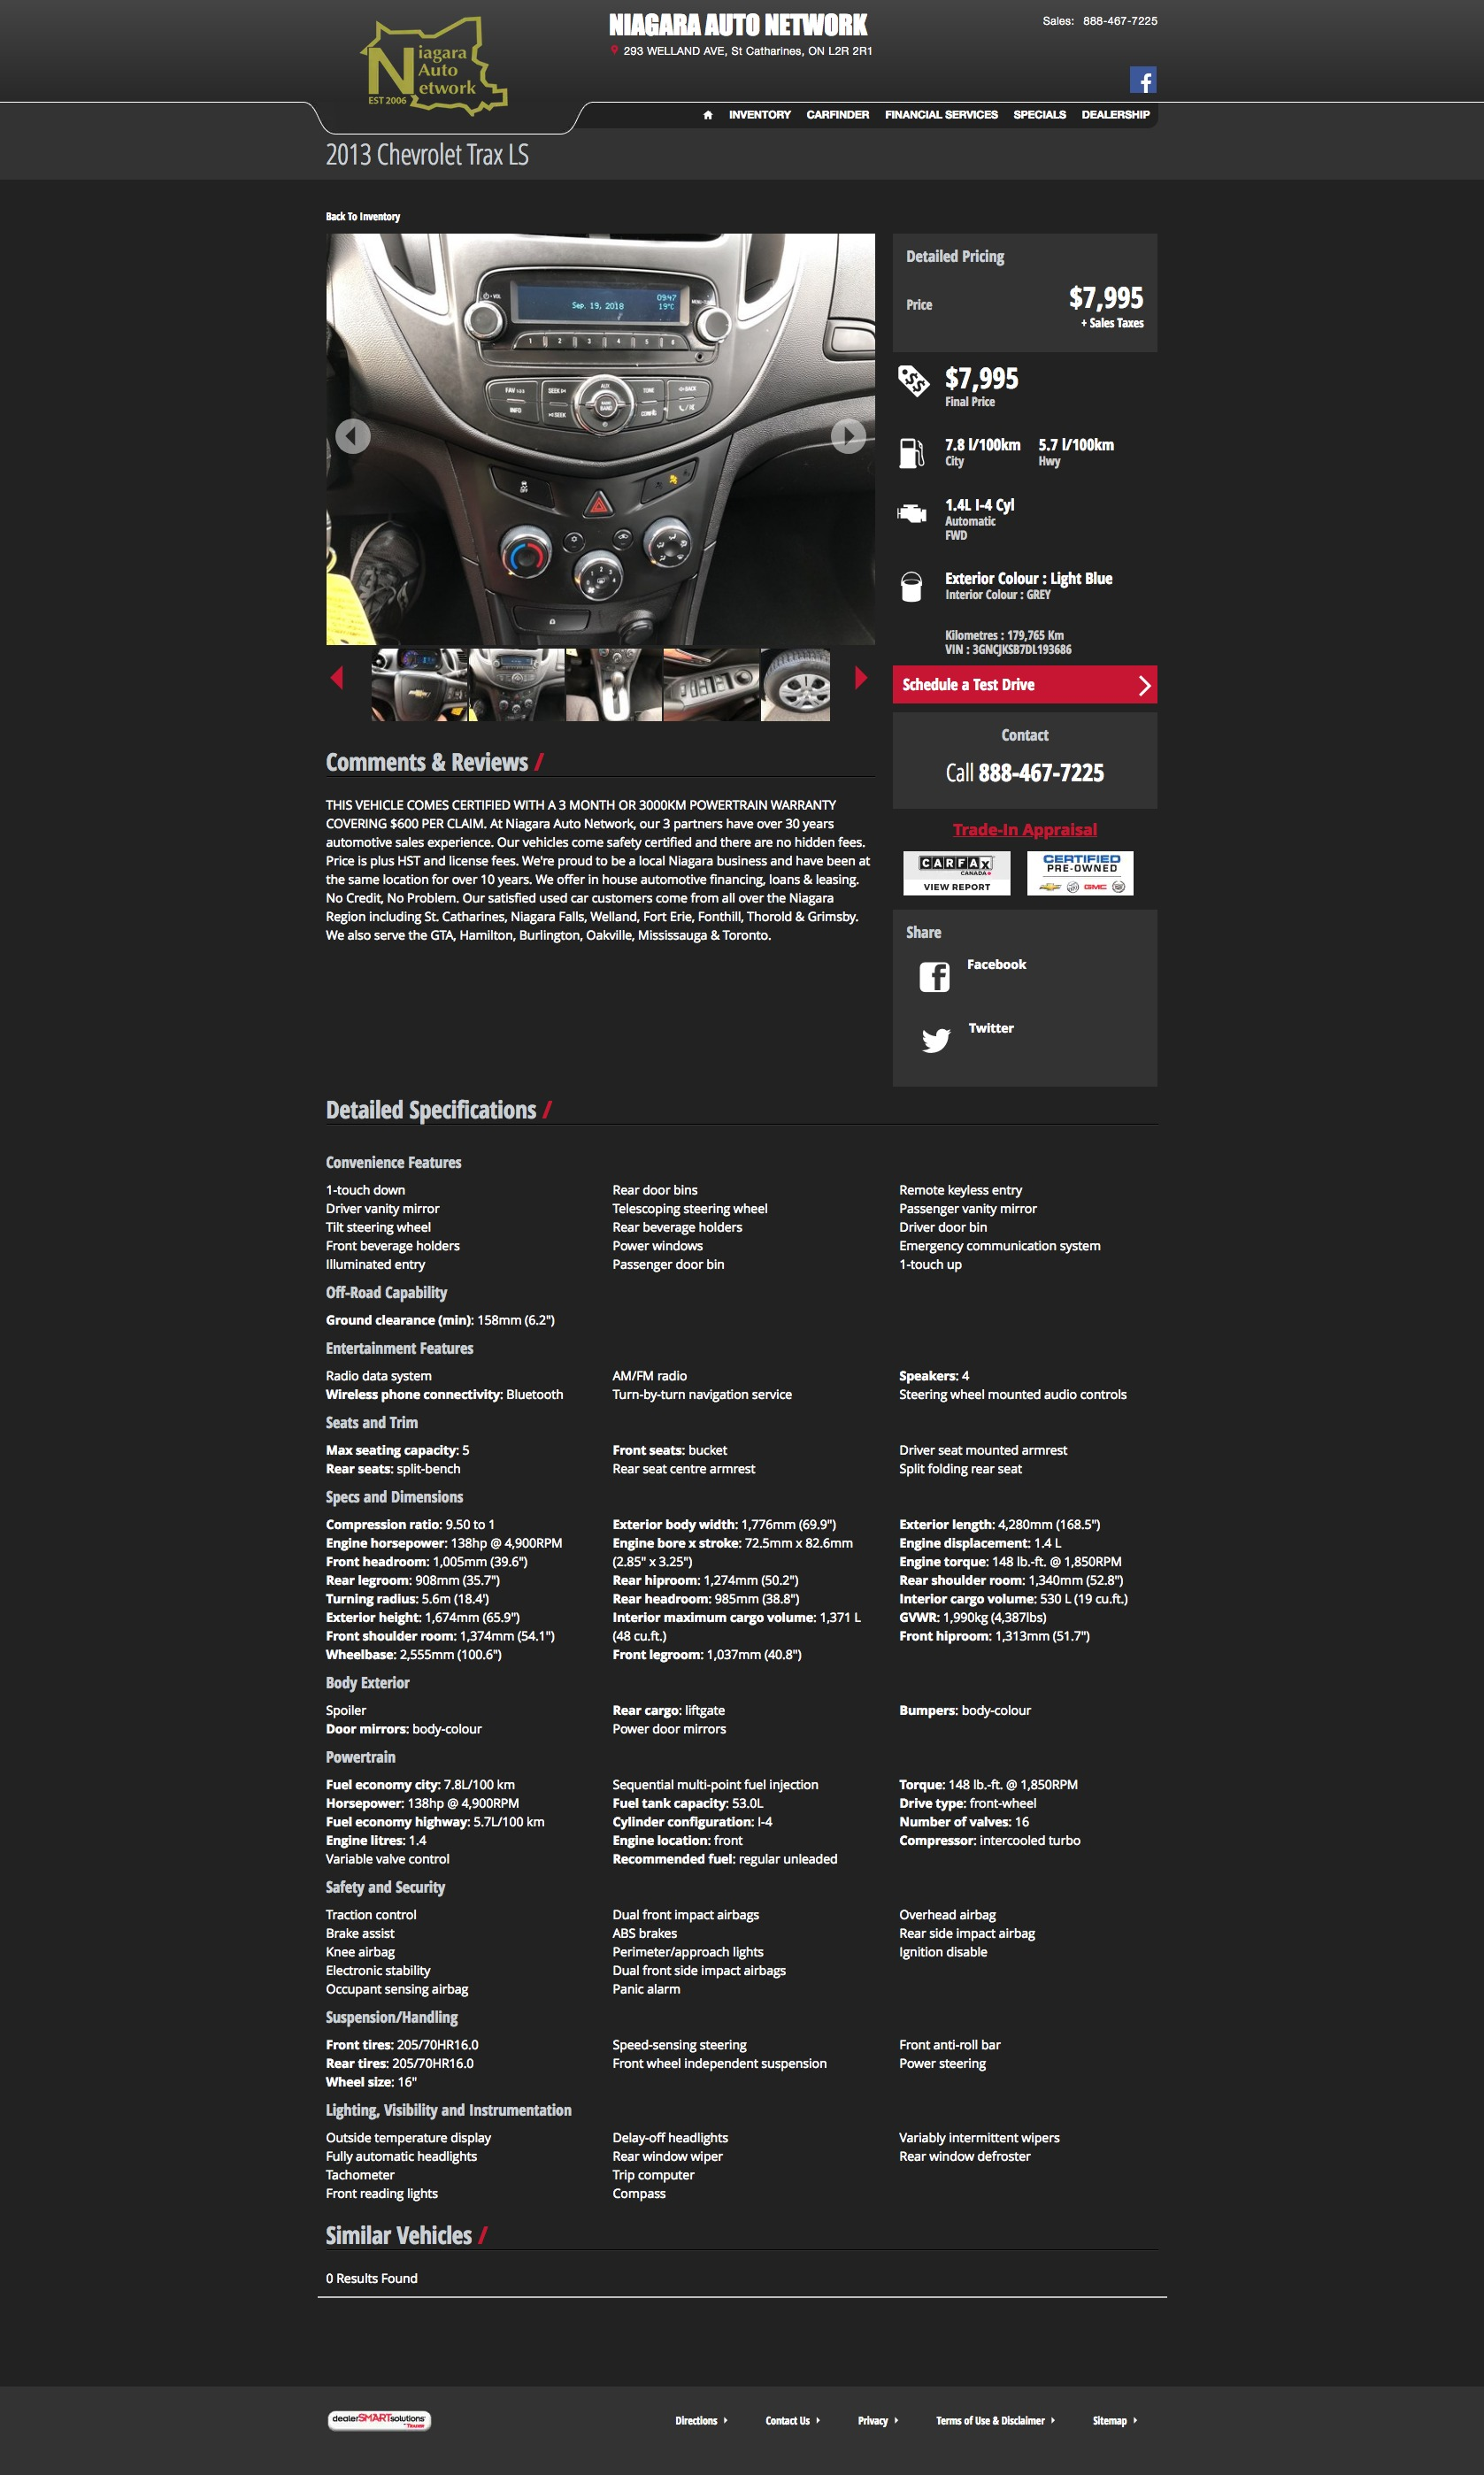car: (853, 666, 869, 691)
